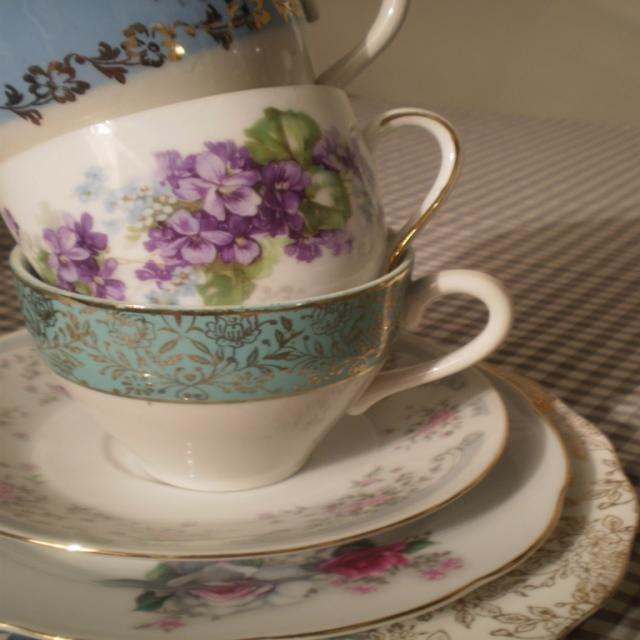non-organic waste: (17, 303, 496, 553)
